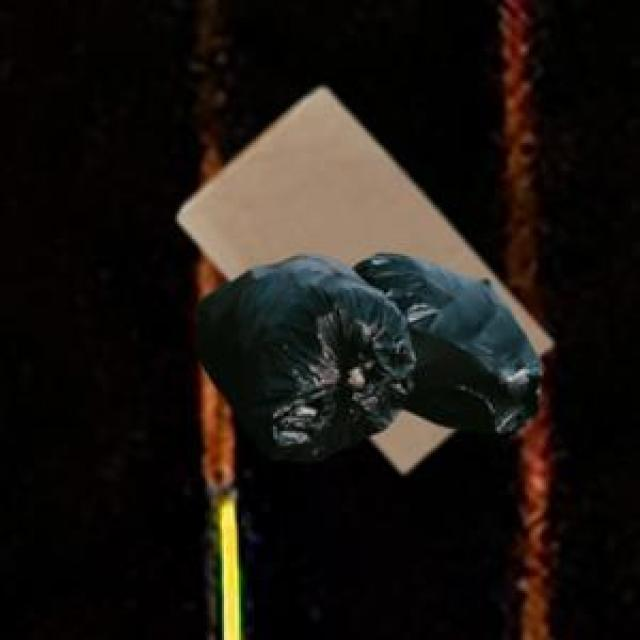miscellaneous trash: (192, 250, 538, 459)
paper: (175, 85, 546, 467)
